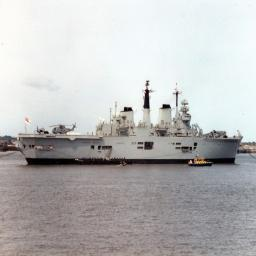Portanaves: (14, 75, 245, 167)
